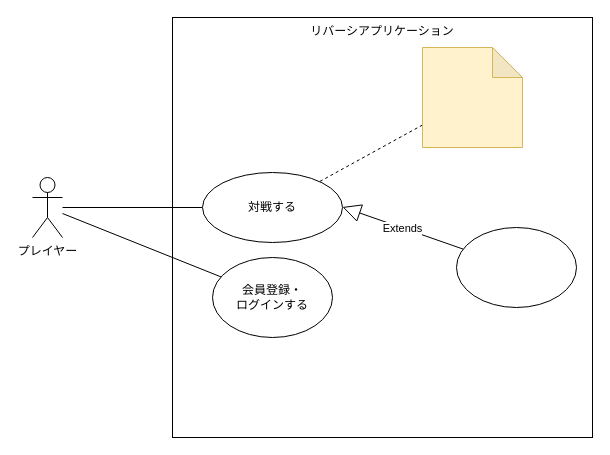
The diagram is 610 pixels wide and 455 high, and some of its shapes have lost their labels. The centre of each missing label's shape, as x and y in pixels:
- 対戦を開始する - 盤面を見る - 石を打つ - 勝敗を確認する: (x=472, y=97)
コンピュータと 対戦する: (x=516, y=267)
